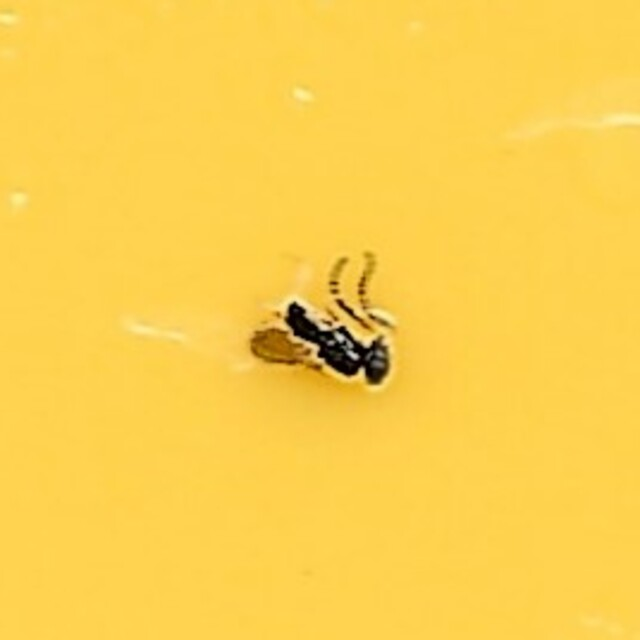Hymenoptera: (239, 245, 401, 395)
